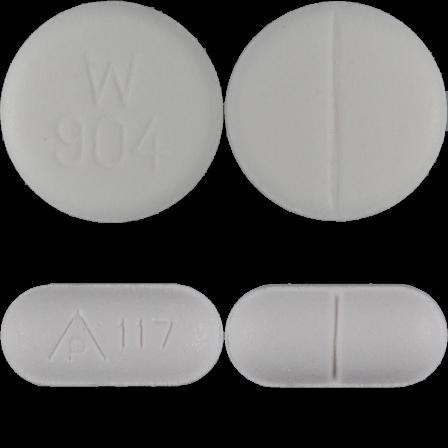68788-9721: (0, 0, 224, 224)
